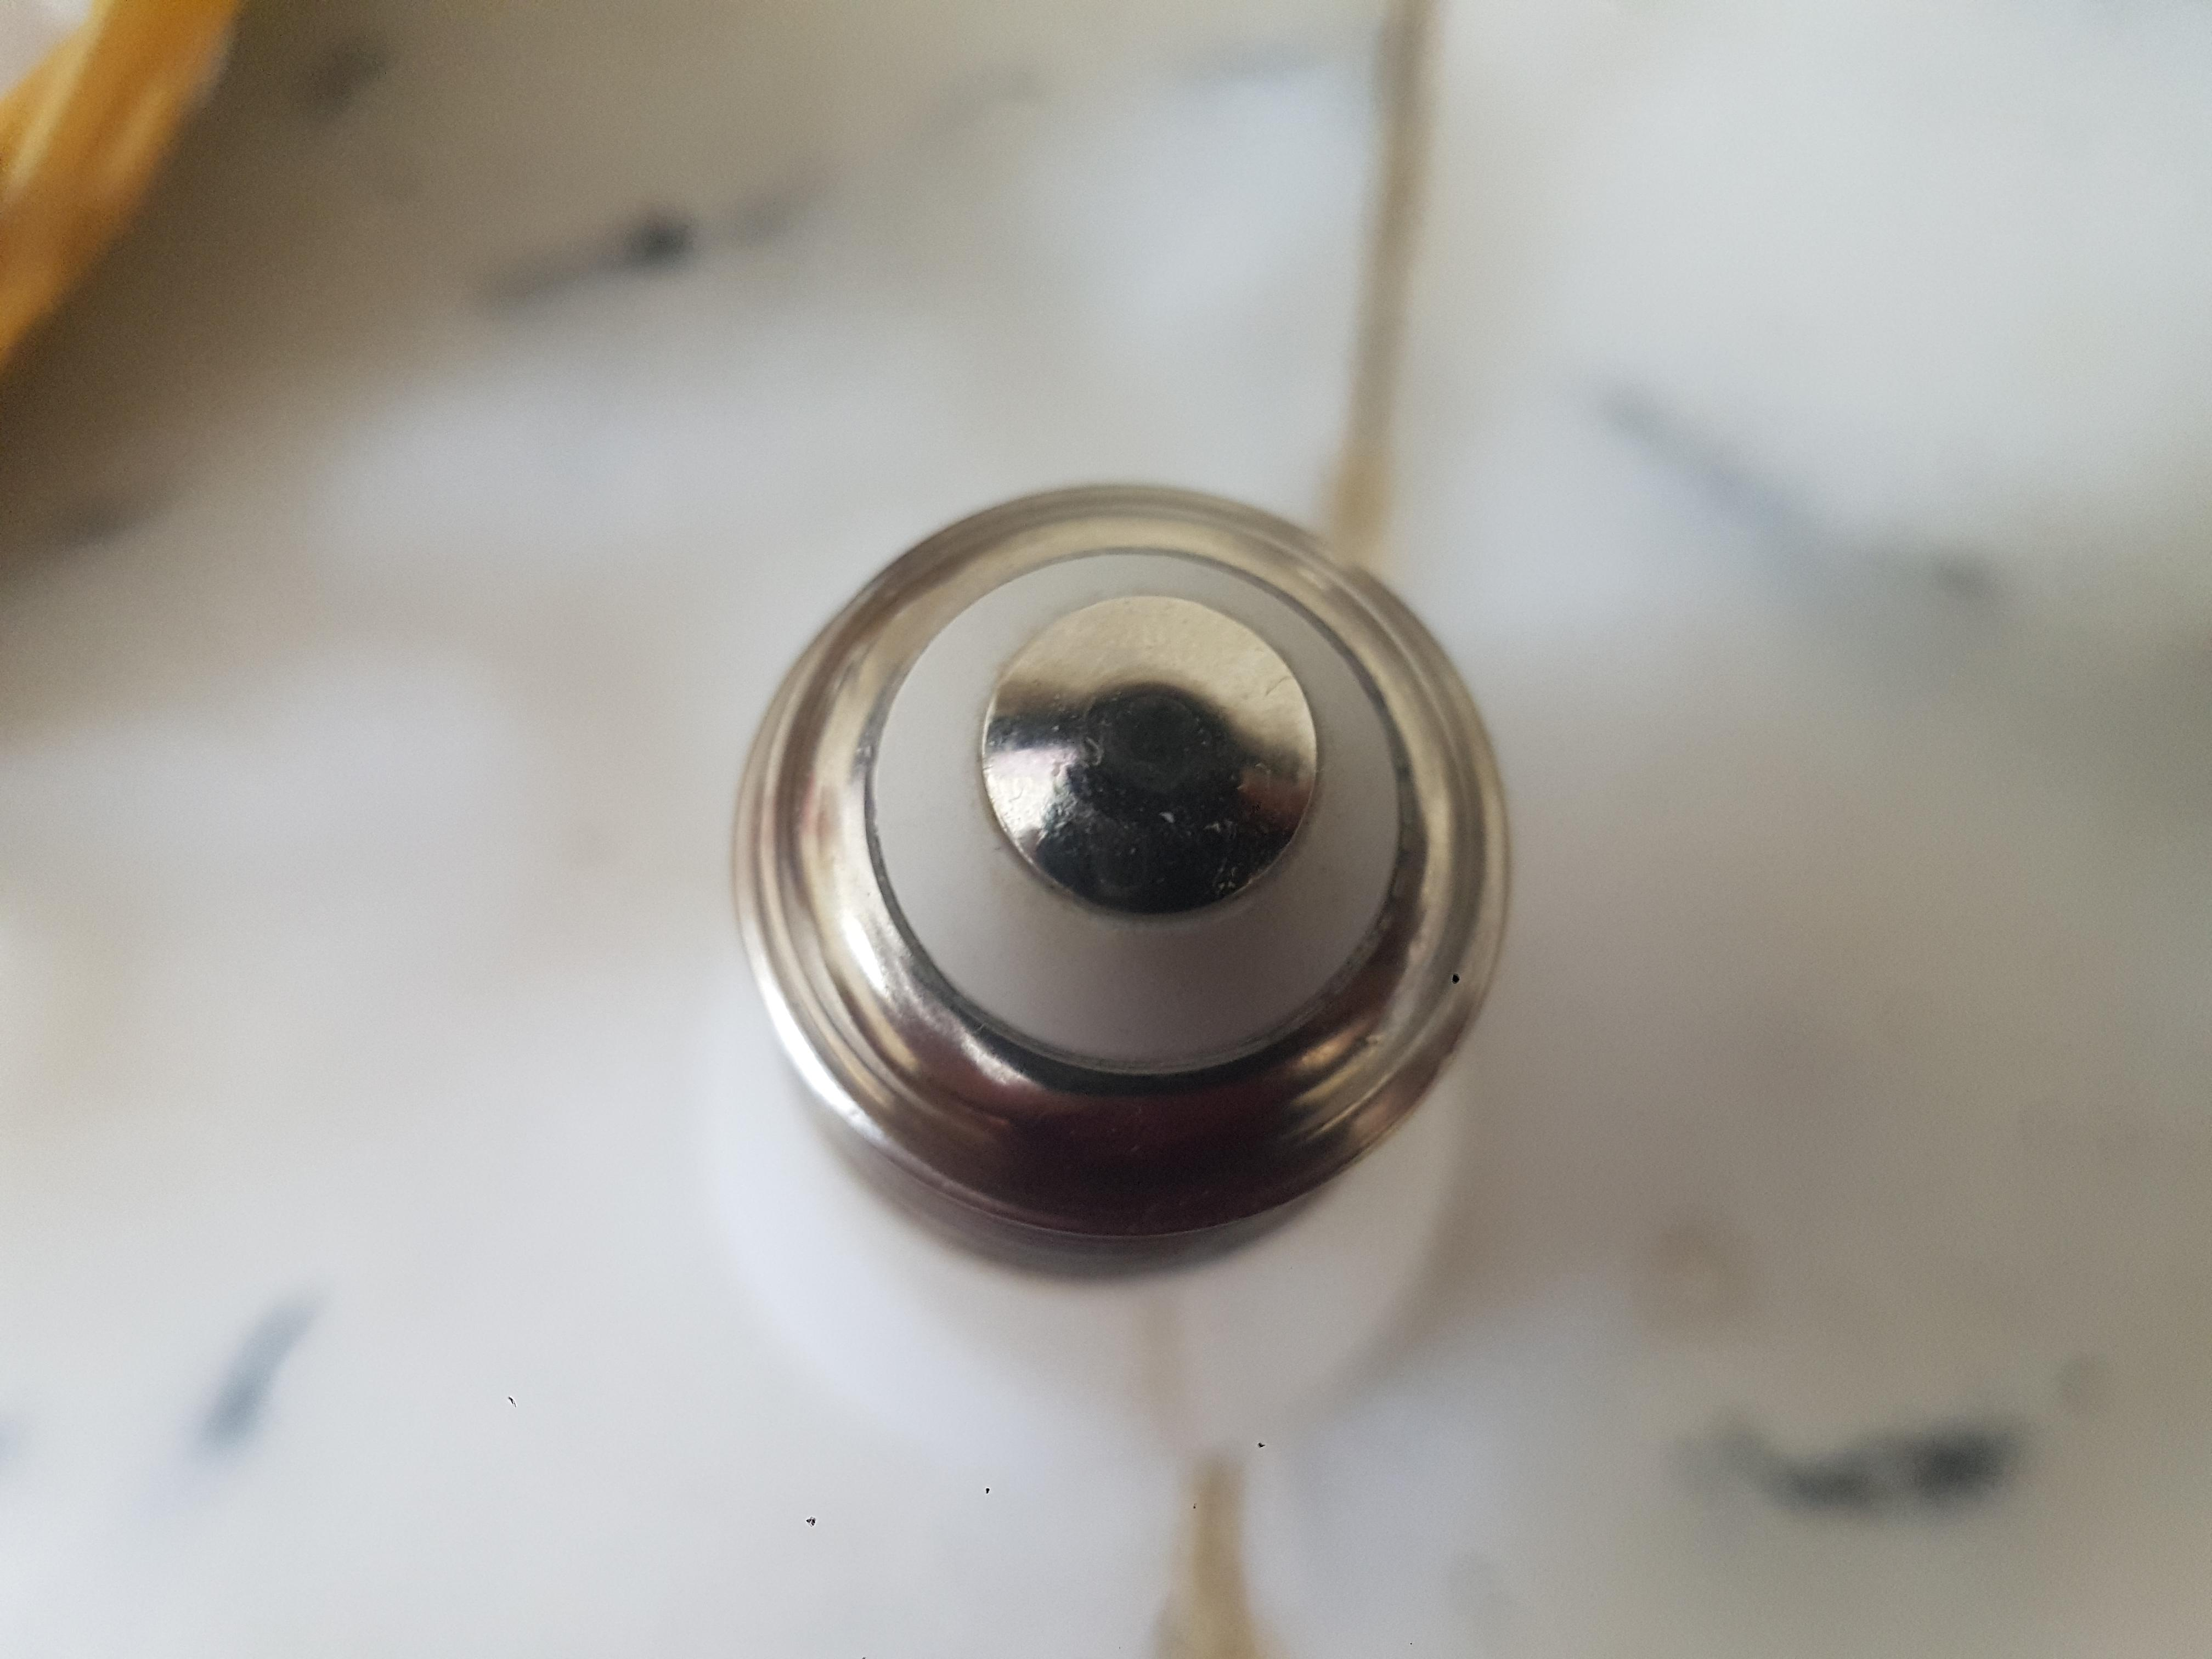light bulb: (726, 469, 1521, 1455)
